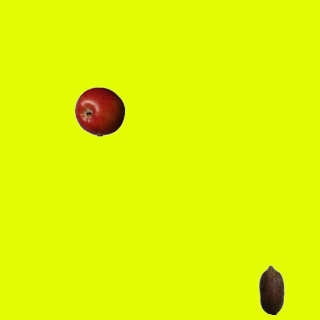Apple Braeburn: (74, 86, 124, 136)
Nut Pecan: (246, 264, 296, 314)
